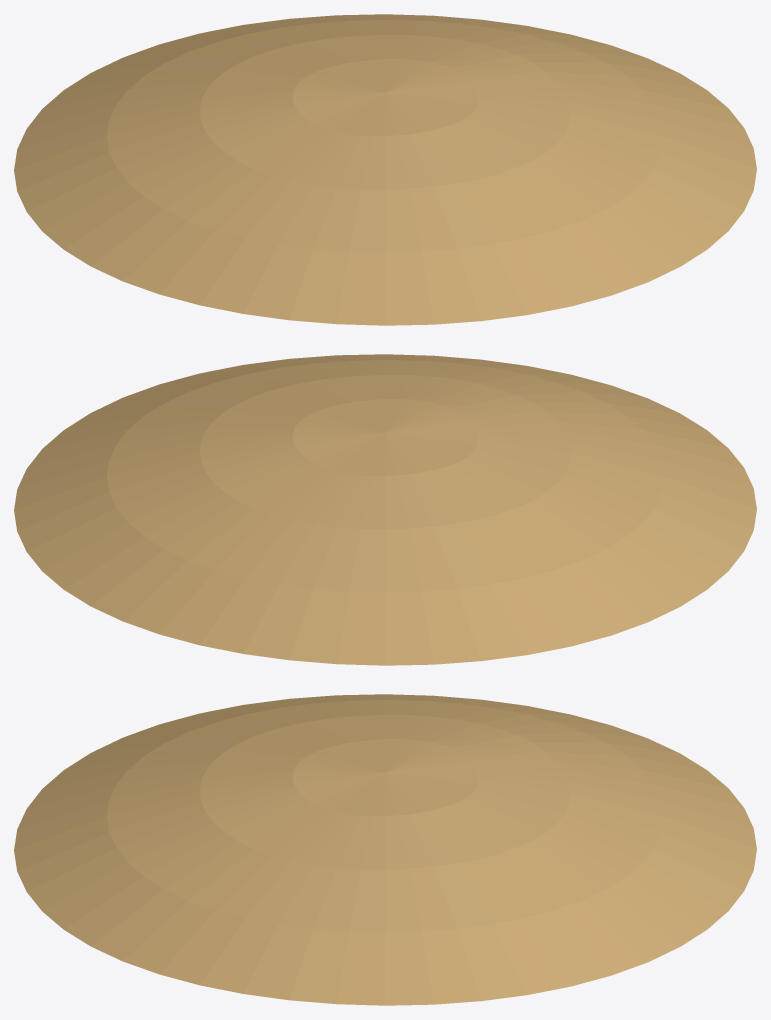
The model's file is GoldFxBucketSand.glb.
3 views of the same model, one above another, from view 1: azimuth 30°, elevation 25°; view 2: azimuth 150°, elevation 25°; view 3: azimuth 270°, elevation 25° (orthographic).
Visible parts, largest first — view 1: GoldFxBucketSand.002; view 2: GoldFxBucketSand.002; view 3: GoldFxBucketSand.002.
Boxes of the visible parts, x1,y1,x2,y2 form: GoldFxBucketSand.002: (14,14,756,325); GoldFxBucketSand.002: (14,354,756,665); GoldFxBucketSand.002: (14,694,756,1005).
Size of the model in its own units: 0.288 by 0.0336 by 0.288.
